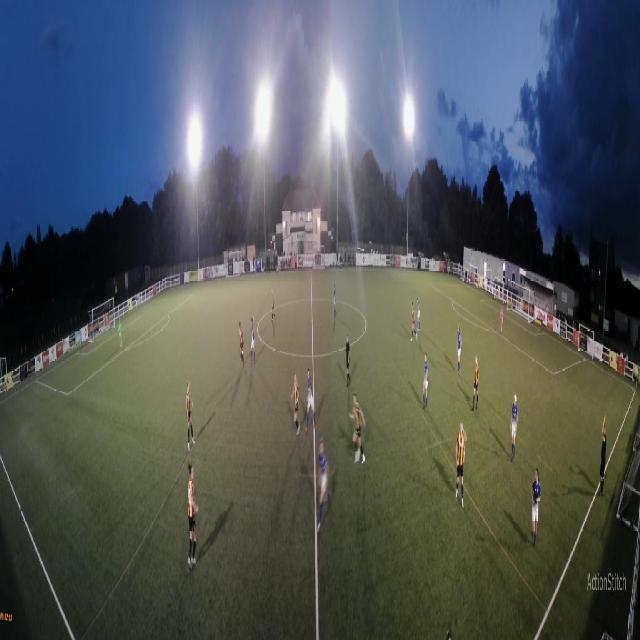player: (317, 437, 332, 535), (187, 461, 199, 570), (349, 393, 366, 465), (456, 420, 467, 509), (531, 467, 542, 551), (186, 380, 196, 452), (305, 368, 316, 433), (290, 371, 300, 437), (510, 393, 518, 463), (470, 352, 479, 412), (422, 351, 428, 411), (345, 333, 351, 388), (410, 302, 418, 343), (456, 324, 462, 378), (250, 316, 256, 365), (239, 321, 245, 369), (271, 290, 276, 322), (417, 296, 421, 331), (118, 319, 122, 349), (499, 307, 503, 336), (334, 284, 337, 318)
